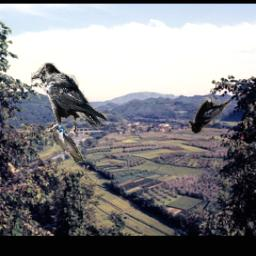Crow: (31, 63, 108, 138), (189, 97, 231, 133)
Swallow: (48, 123, 87, 162)
